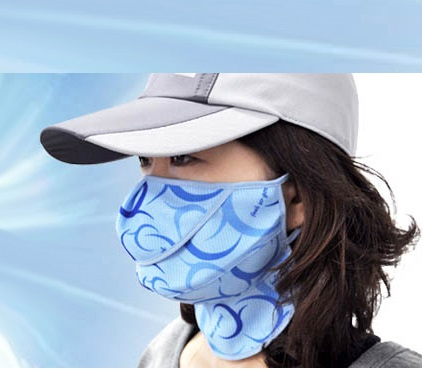face_mask: (119, 99, 278, 301)
